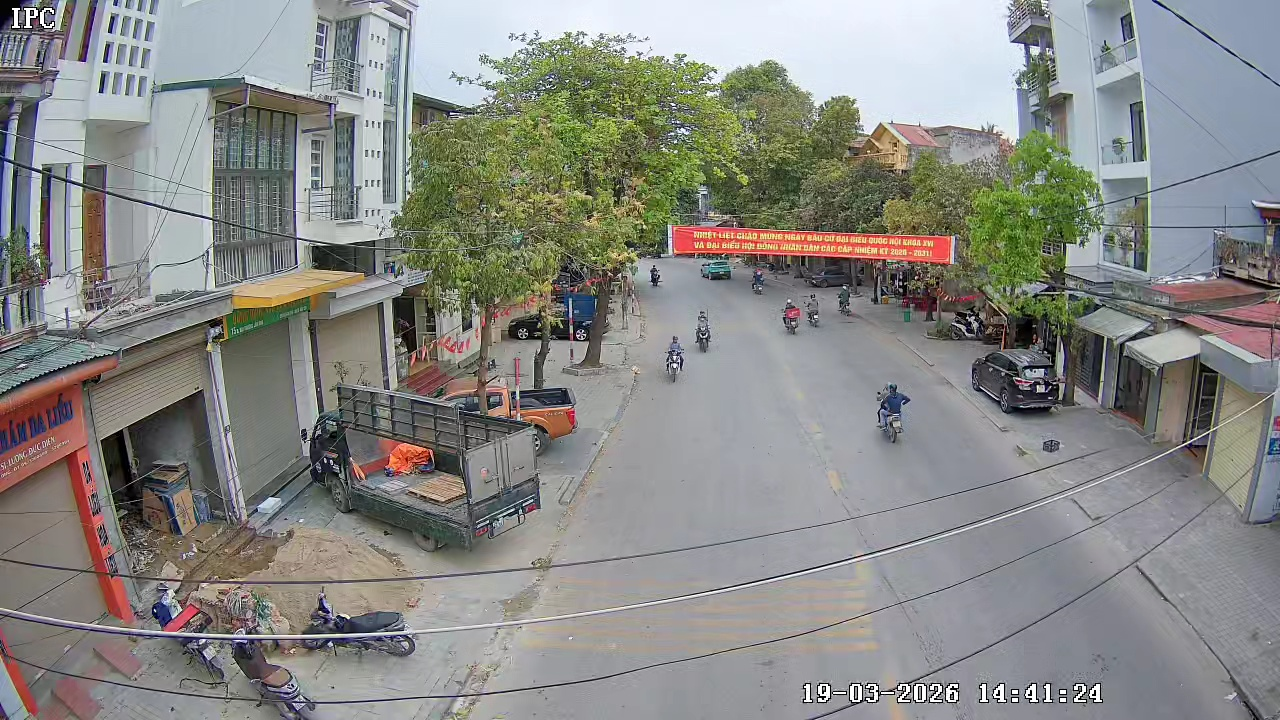car: (511, 384, 577, 449)
motorbike: (874, 380, 911, 444), (665, 334, 685, 383), (694, 308, 712, 354), (782, 297, 800, 334), (806, 293, 822, 327), (837, 286, 852, 315), (751, 268, 766, 295)
